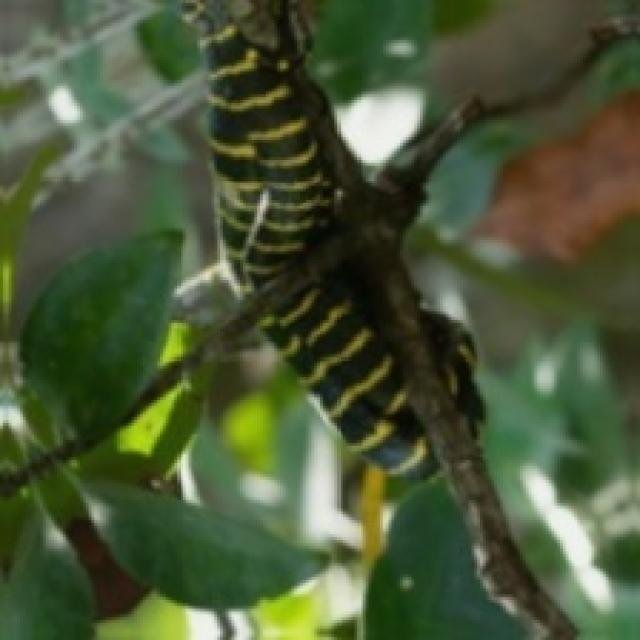mangrove cat snake: (186, 0, 374, 289), (260, 243, 480, 471)
